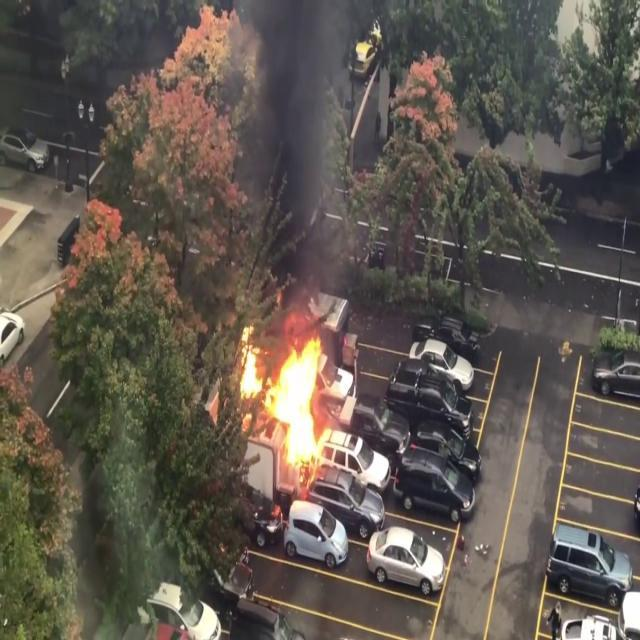Fire: (220, 323, 336, 487)
Smoke: (250, 0, 338, 346)
